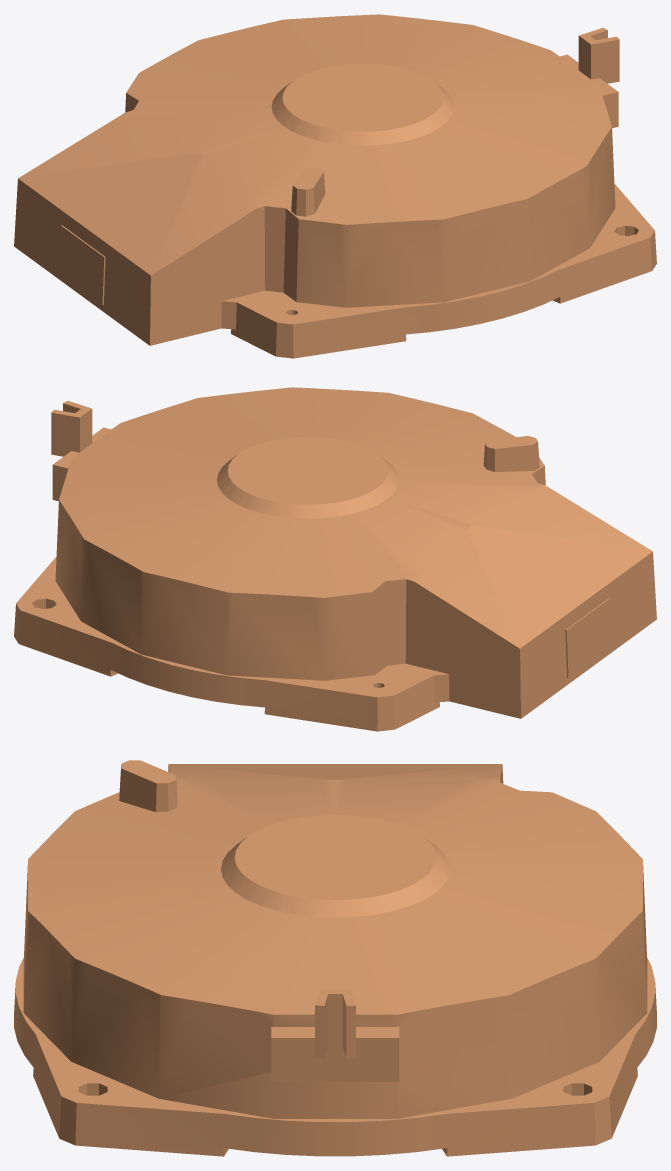
The picture shows the model from 3 angles, top to bottom: view 1: azimuth 30°, elevation 25°; view 2: azimuth 150°, elevation 25°; view 3: azimuth 270°, elevation 25°; orthographic projection. The views are drawn at different scales.
Visible parts, largest first — view 1: Base_Link; view 2: Base_Link; view 3: Base_Link.
Boxes of the visible parts, x1,y1,x2,y2 form: Base_Link: (14,14,656,358); Base_Link: (14,387,656,731); Base_Link: (14,760,656,1156).
Size of the model in its own units: 0.7945 by 0.6631 by 0.2025.
